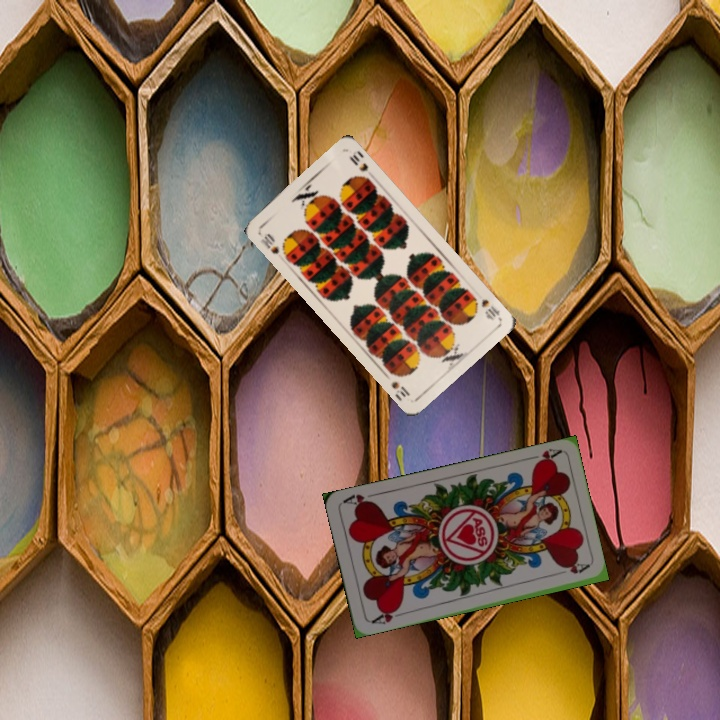HA: (367, 603, 407, 627), (523, 444, 563, 468)
S10: (477, 294, 503, 323), (256, 229, 282, 257)
